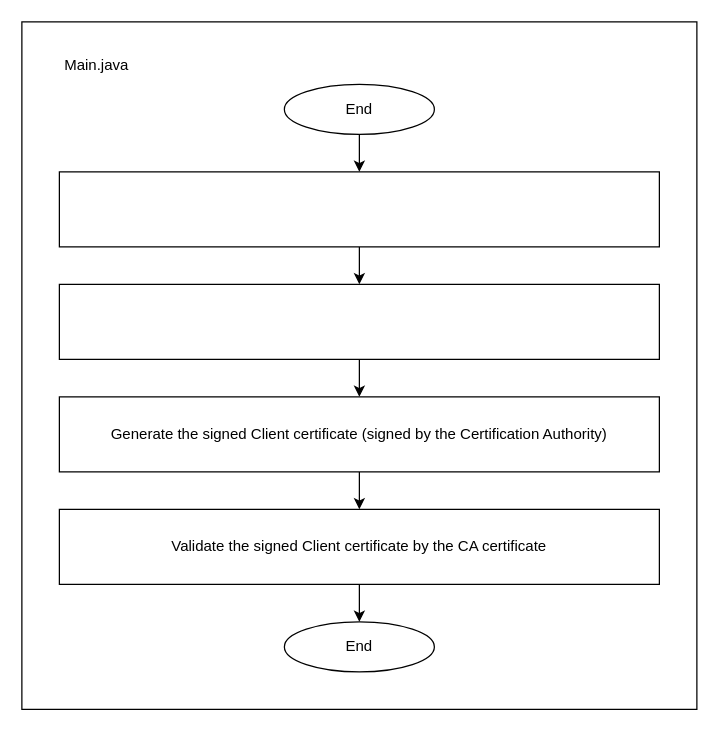
Some shapes in this 719 by 731 pixel diagram are drawn without their labels. Here are the shapes that lost their labels. From the top down, the box of each, then its label:
(58, 171, 659, 247): Generate self-signed certificate - Certification Authority
(58, 283, 659, 359): Create Certificate Signing Request (Client registration)
